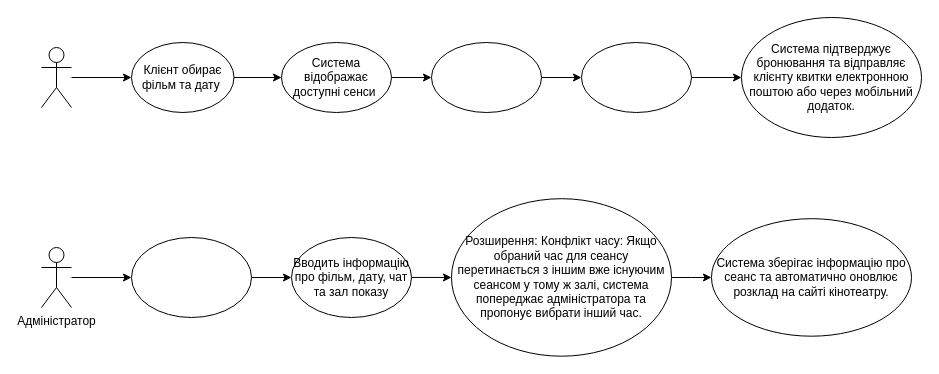
Image size: 939x374. Some labels were removed from this diagram. The shapes that lost their labels are listed below. From the top down, each one's centre as x and y in pixels, then its label:
the point at 56,77: Користувач
the point at 486,77: Клієнт вибирає місце для бронювання
the point at 636,77: Клієнт вводить свої контактні дані та оплату
the point at 191,277: Адміністратор вибирає опцію додавання нового сеансу в системі
